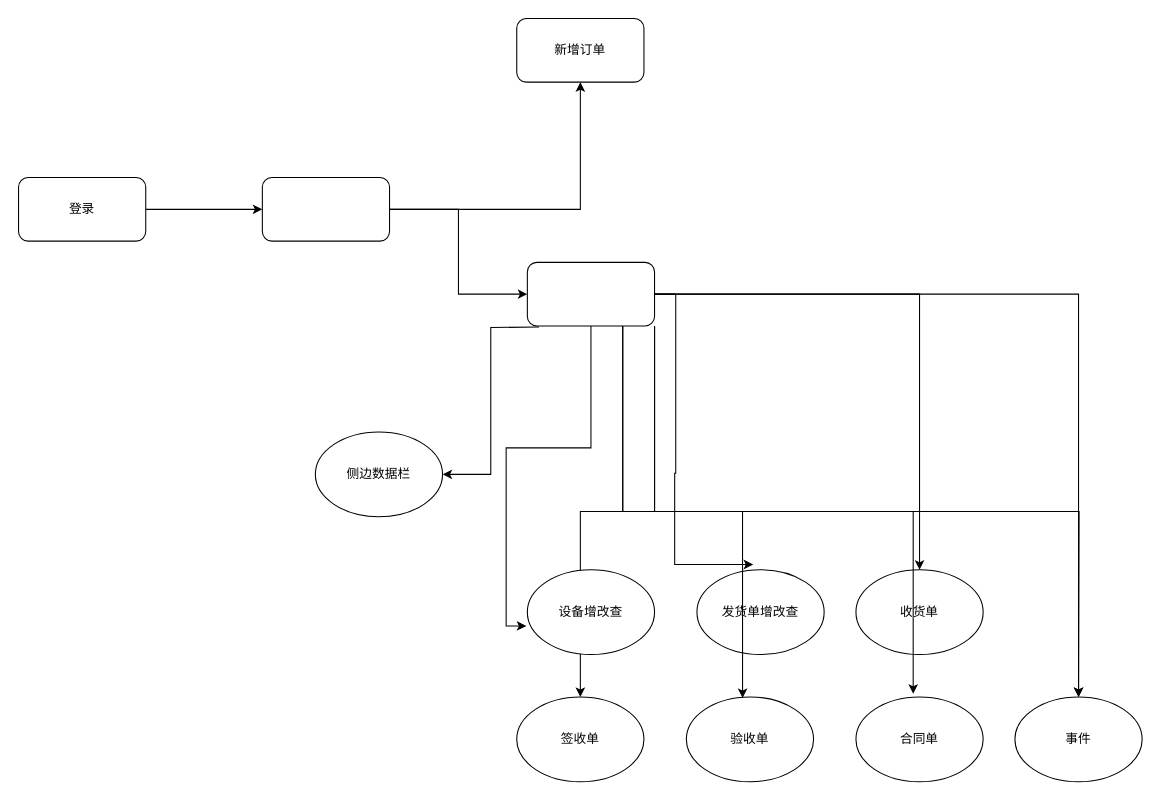
This 1161x800 diagram has some shape labels left out. Here are the shapes that lost their labels. From the top down, the centre of each, then its label:
At point 325,208: "主菜单".
At point 590,293: "订单信息".
